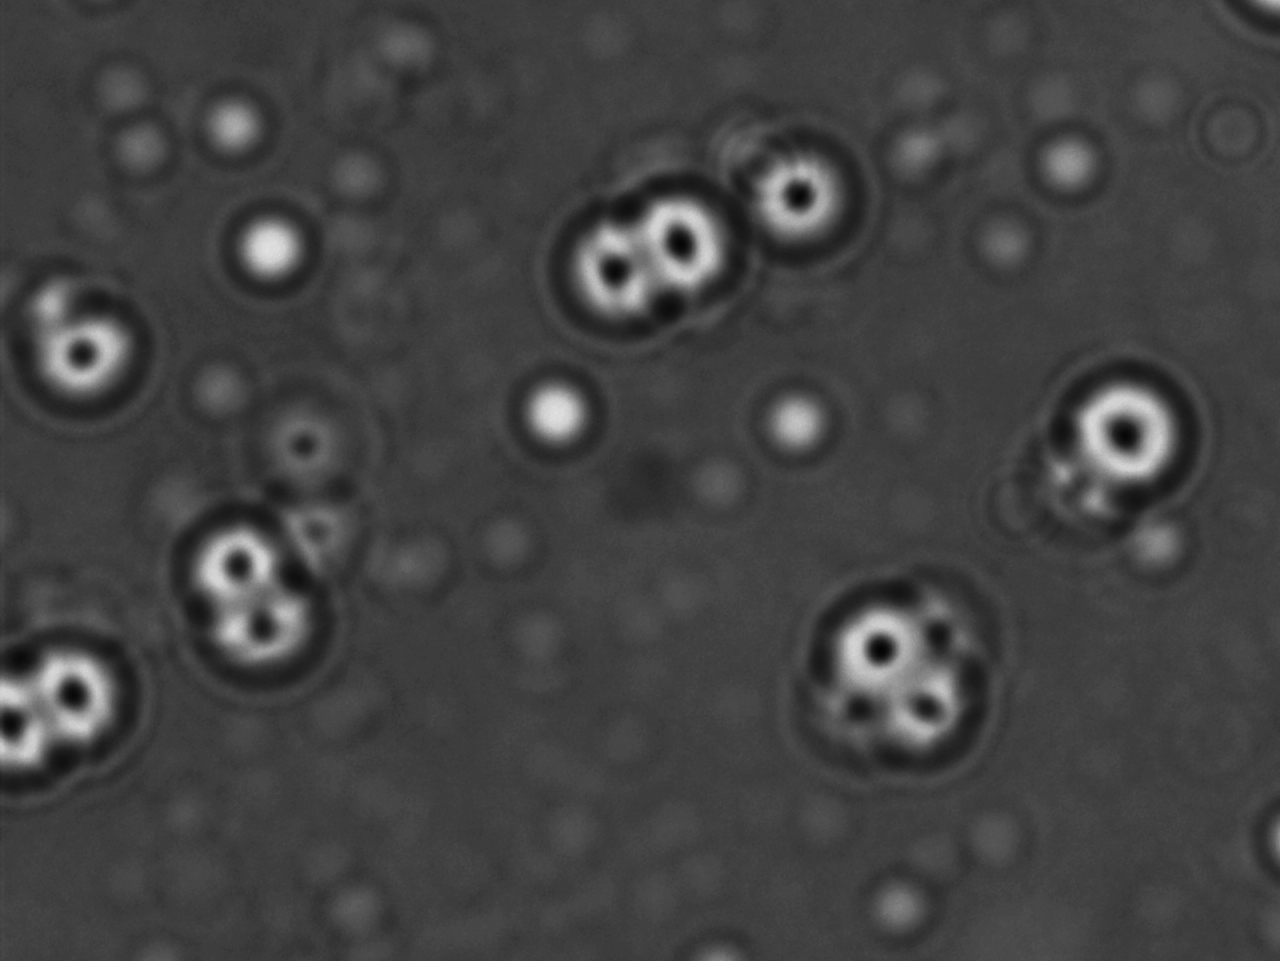depth:24: (1038, 330, 1223, 510), (719, 108, 876, 266), (11, 272, 165, 426), (610, 161, 759, 318), (158, 486, 319, 628), (543, 190, 688, 344), (190, 556, 339, 695), (16, 621, 152, 763)
